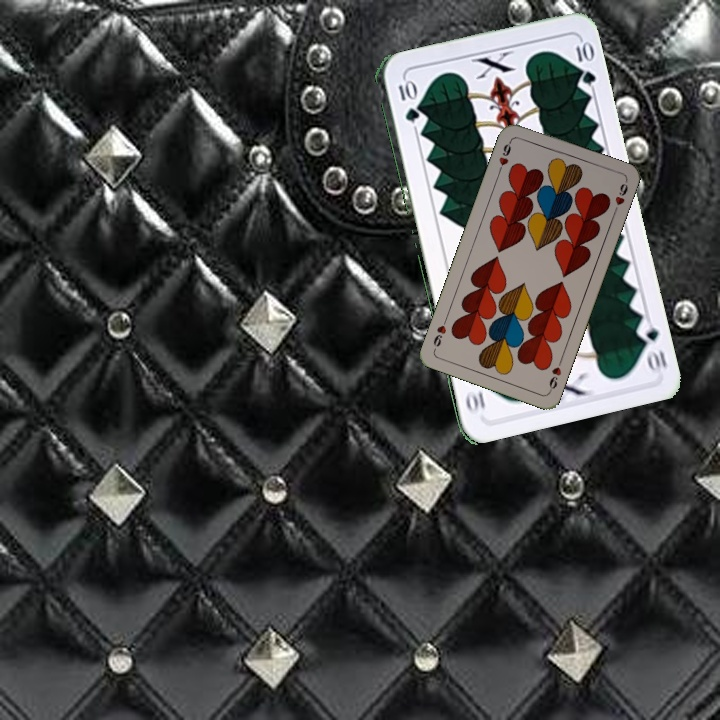G10: (633, 315, 669, 374), (394, 76, 419, 125)
H9: (545, 355, 565, 394), (494, 136, 514, 175)
